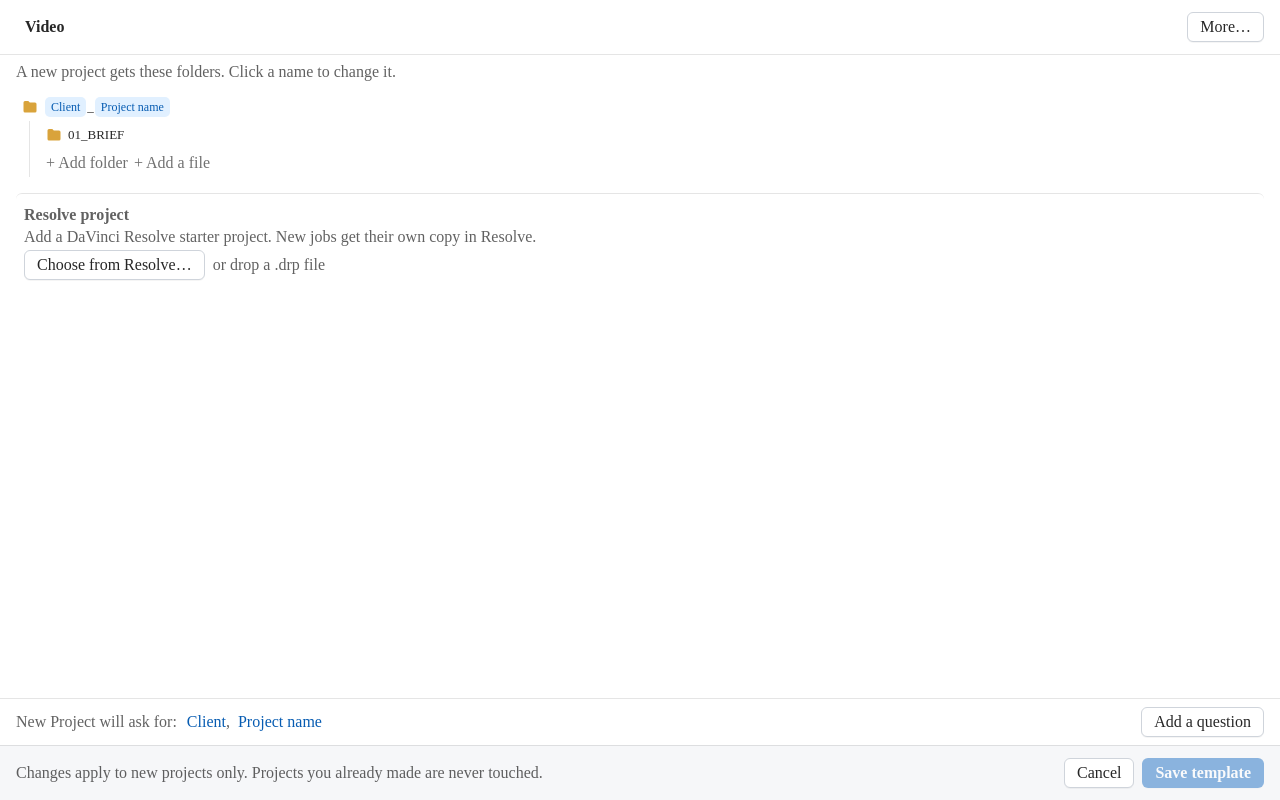
Test case: Resolve project in the template editor › says what to do when Resolve is notRunning
Click the button "Choose from Resolve…" at (114, 265), box [24,250,205,280]
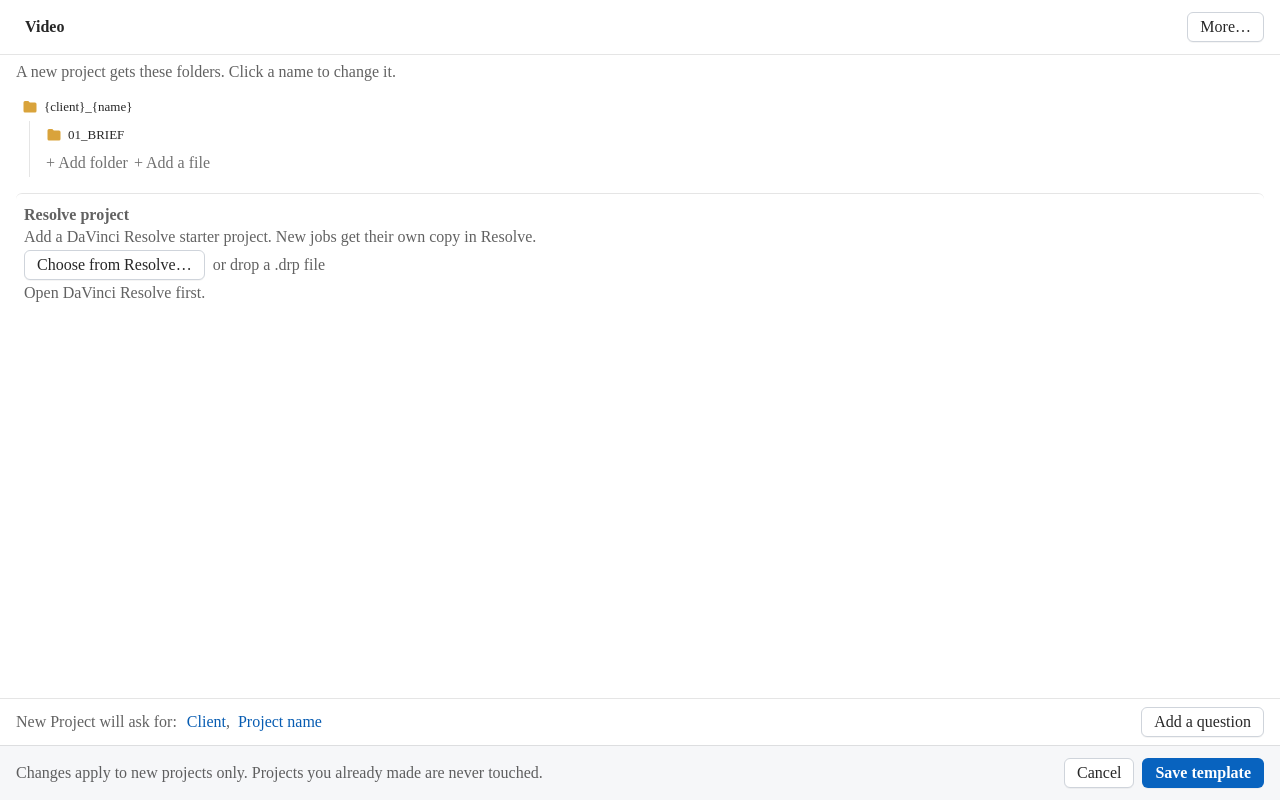
Check: the text "Open DaVinci Resolve first." is shown, box [24,284,205,301]
